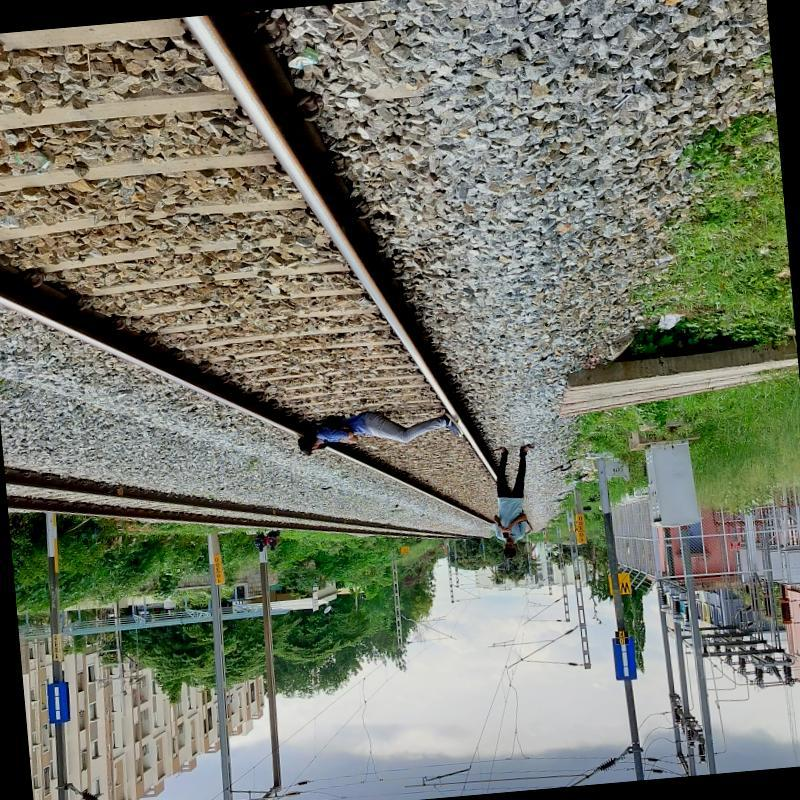sleeping: (284, 392, 470, 463)
